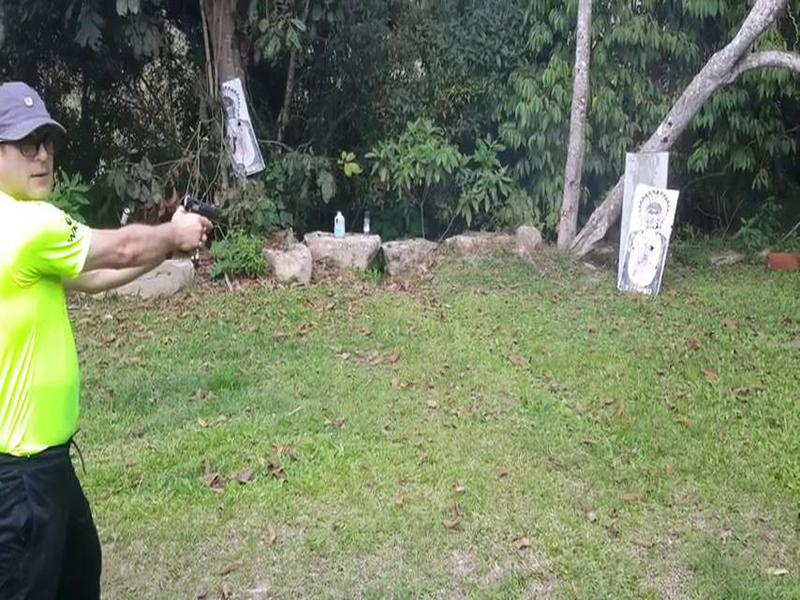Pistola: (170, 187, 225, 239)
